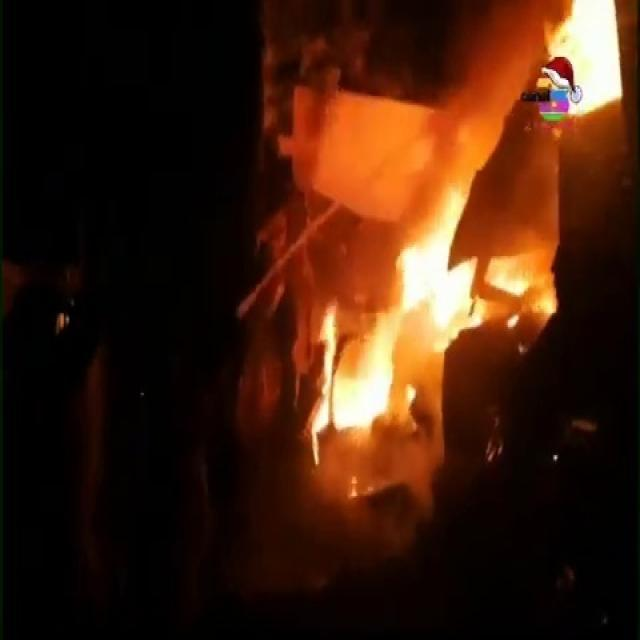Fire: (308, 124, 504, 460), (529, 0, 640, 127)
